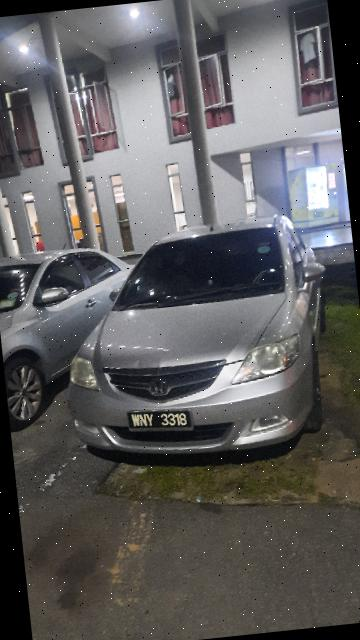License_Plate: (127, 403, 195, 440)
car: (46, 205, 344, 475), (1, 236, 156, 425)
